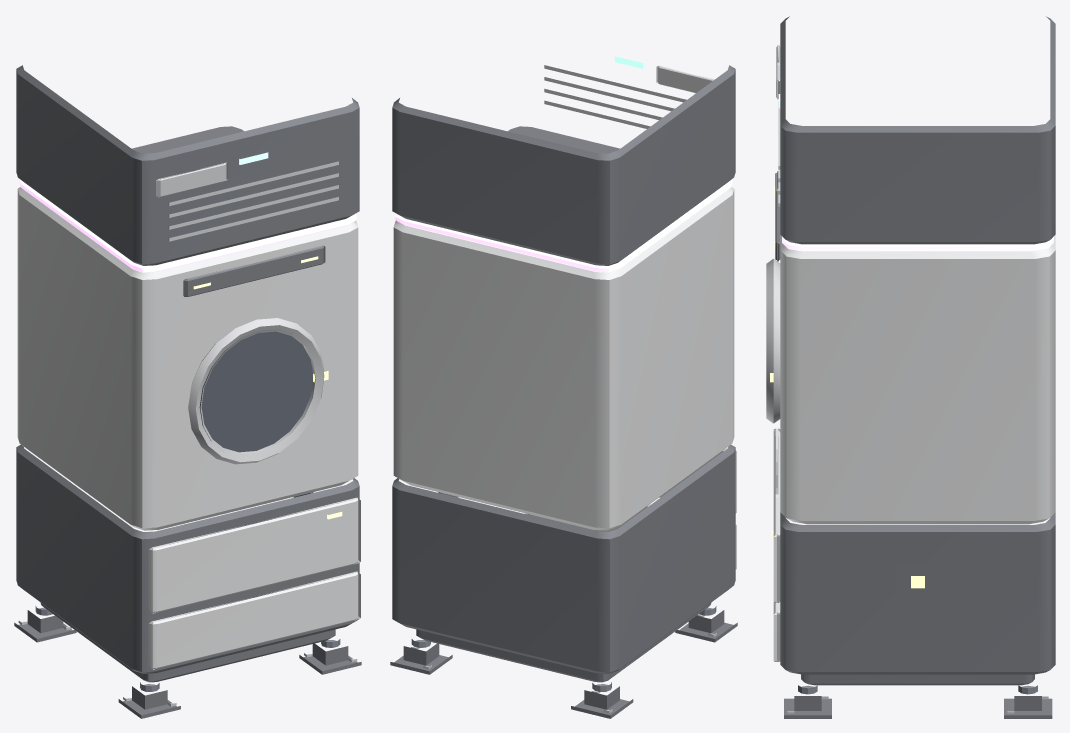
Rendered from iter_05.glb.
3 views of the same model, side by side, from view 1: azimuth 30°, elevation 25°; view 2: azimuth 150°, elevation 25°; view 3: azimuth 270°, elevation 25° (orthographic). The views are drawn at different scales.
Visible parts, largest first — view 1: Combo_Shell, Recycler_Top, Reclaim_Base, Cartridge_Drawer, Combo_Door_Glass, Service_Hatch, Combo_Door_Ring, Recycler_Vent, Accent_Band, Control_Strip, Plinth, Floor_Plates (+2 smaller); view 2: Combo_Shell, Reclaim_Base, Recycler_Top, Accent_Band, Plinth, Recycler_Vent, Floor_Plates, Floor_Clamps, Lint_Drawer; view 3: Combo_Shell, Reclaim_Base, Recycler_Top, Plinth, Combo_Door_Ring, Accent_Band, Sprocket_Port, Cartridge_Drawer, Floor_Plates, Floor_Clamps, Service_Hatch.
Boxes of the visible parts, x1,y1,x2,y2 form: Combo_Shell: (17,187,358,530); Recycler_Top: (16,65,359,265); Reclaim_Base: (16,444,359,673); Cartridge_Drawer: (148,497,360,613); Combo_Door_Glass: (199,329,312,452); Service_Hatch: (148,571,360,669); Combo_Door_Ring: (188,318,324,464); Recycler_Vent: (168,161,338,241); Accent_Band: (19,179,356,272); Control_Strip: (183,245,325,296); Plinth: (40,602,335,682); Floor_Plates: (14,622,361,718); Combo_Shell: (393,187,734,530); Reclaim_Base: (392,444,735,673); Recycler_Top: (392,65,735,265); Accent_Band: (395,179,732,272); Plinth: (416,602,711,682); Recycler_Vent: (544,65,686,128); Floor_Plates: (390,622,737,718); Floor_Clamps: (403,610,724,709); Lint_Drawer: (656,65,714,93); Combo_Shell: (780,235,1055,524); Reclaim_Base: (780,512,1055,674); Recycler_Top: (780,16,1055,244); Plinth: (801,674,1034,685); Combo_Door_Ring: (766,258,780,423); Accent_Band: (782,236,1053,251); Sprocket_Port: (897,563,938,600); Cartridge_Drawer: (773,428,780,602); Floor_Plates: (784,698,1052,718); Floor_Clamps: (794,696,1041,710); Service_Hatch: (773,602,780,661).
Bounding box in the file's own units: 0.814 × 1.9 × 0.8409.
